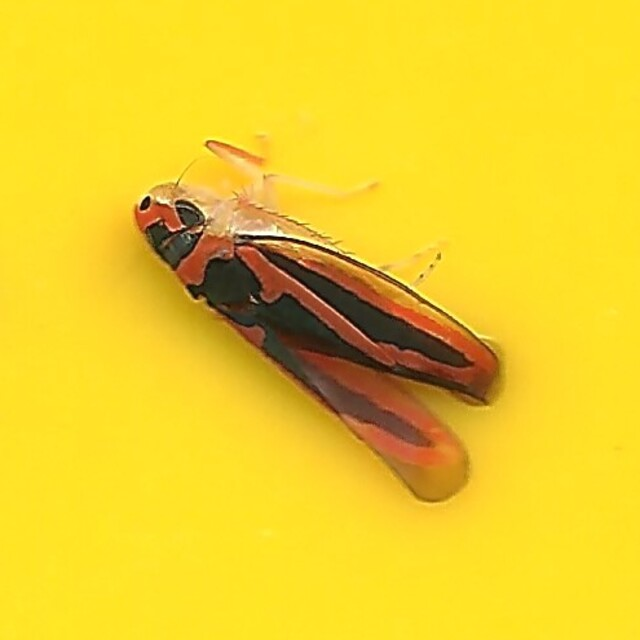Hemiptera: (129, 132, 511, 508)
